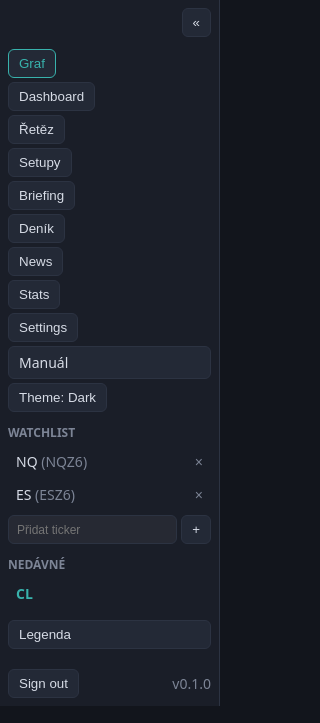
aktivní ad-hoc symbol není ve watchlistu, ale zvýrazněný v Nedávných (#989)
Expected: the field labelled "Watchlist" does not show "CL"
Expected: the button named "Odebrat NQ" is shown, [189,452,209,472]
Přepnutí na NQ: CL zůstane v Nedávných, teď už s křížkem
Click the button "NQ (NQZ6)" at (99, 462), box [10,449,189,474]
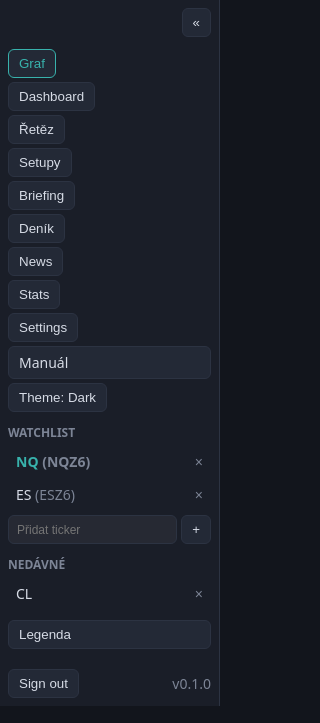
Now the button named "Vyřadit CL z nedávných" is shown, box [189,584,209,604]
